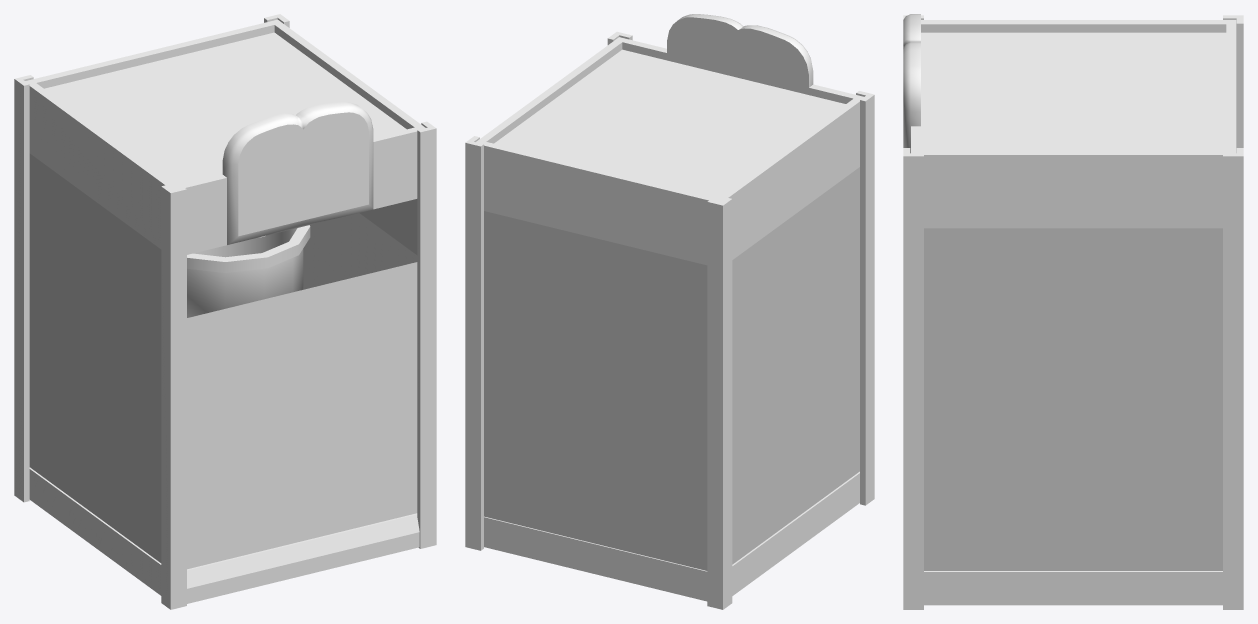
Rendered from Popcorn Machine.glb.
The picture shows the model from 3 angles, left to right: view 1: azimuth 30°, elevation 25°; view 2: azimuth 150°, elevation 25°; view 3: azimuth 270°, elevation 25°; orthographic projection. The views are drawn at different scales.
Parts seen in each view (by area): view 1: LOD0; view 2: LOD0; view 3: LOD0.
Boxes of the visible parts, bbox=[...] form: LOD0: bbox=[14, 14, 436, 609]; LOD0: bbox=[465, 14, 874, 609]; LOD0: bbox=[903, 14, 1243, 609].
Size of what is drawn, in the model's own units: 0.5882 by 0.9754 by 0.5995.
4 materials, 1 textured.
